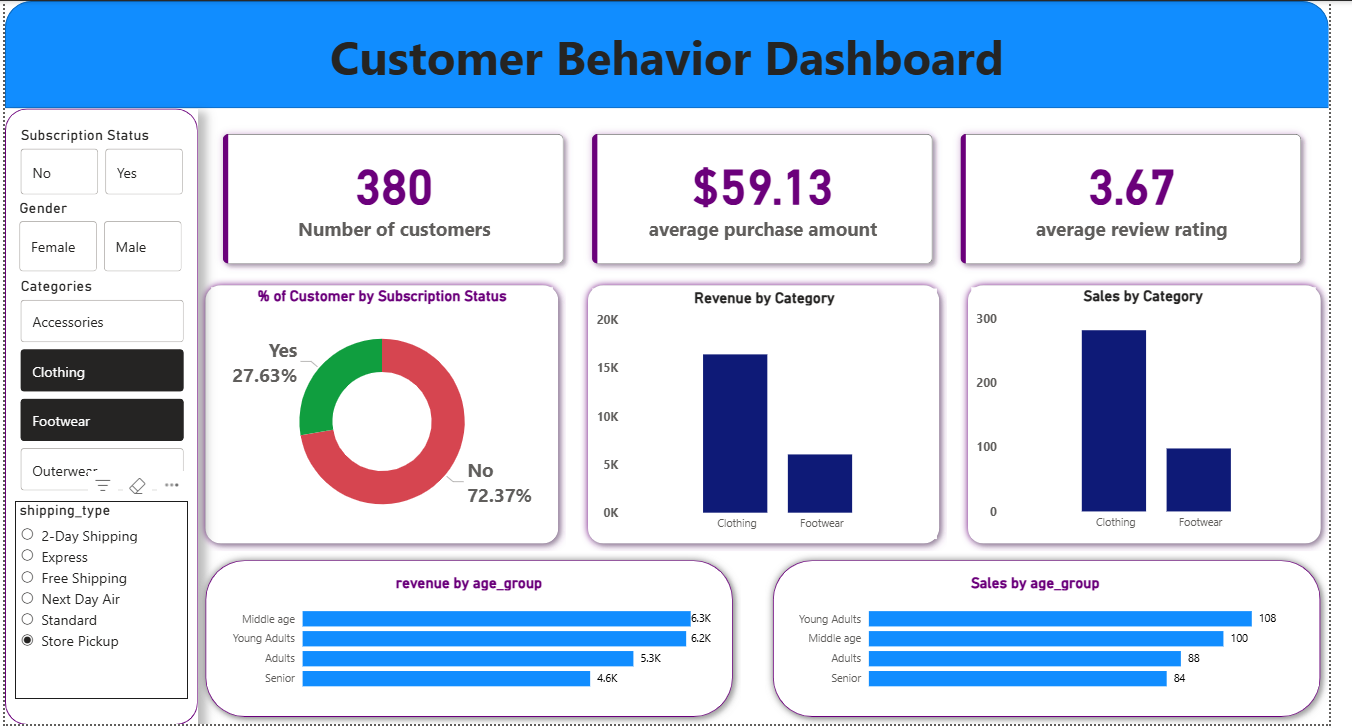

The dashboard page shown, as its layout file describes it:
{"tool":"powerbi","page":{"name":"Page 1","canvas":[1500,820],"ordinal":0},"visuals":[{"type":"cardVisual","fields":{"Data":["customer.Number of customers","customer.average purchase amount","customer.average review rating"]},"box":[218.6,121.4,1281.4,205.7],"z":0},{"type":"shape","box":[0,0,1500.4,121.5],"z":1},{"type":"textbox","box":[0,21.4,1500.4,100],"z":2},{"type":"shape","box":[217.9,312.6,418,310.8],"z":3},{"type":"donutChart","title":"% of Customer by Subscription Status","fields":{"Category":["customer.subscription_status"],"Y":["CountNonNull(customer.customer_id)"]},"box":[234,325.1,387.6,284],"z":4},{"type":"shape","box":[651.9,312.6,416.2,310.8],"z":5},{"type":"shape","box":[1082.4,312.6,418,310.8],"z":6},{"type":"clusteredColumnChart","title":"Revenue by Category","fields":{"Y":["Sum(customer.purchase_amount)"],"Category":["customer.category"]},"box":[665.7,325.7,390,284.3],"z":7},{"type":"clusteredColumnChart","title":"Sales by Category","fields":{"Category":["customer.category"],"Y":["CountNonNull(customer.customer_id)"]},"box":[1095.7,324.3,390,284.3],"z":8},{"type":"shape","box":[0,121.4,218.6,698.6],"z":9},{"type":"advancedSlicerVisual","fields":{"Values":["customer.subscription_status"]},"box":[12.9,141.4,195.7,82.9],"z":10},{"type":"advancedSlicerVisual","fields":{"Values":["customer.gender"]},"box":[11.4,224.3,195.7,88.6],"z":11},{"type":"advancedSlicerVisual","fields":{"Values":["customer.category"]},"box":[12.9,312.9,195.7,248.6],"z":12},{"type":"listSlicer","fields":{"Values":["customer.shipping_type"]},"box":[11.4,567.1,195.7,224.3],"z":13},{"type":"shape","box":[218.6,624.3,615.7,195.7],"z":14},{"type":"shape","box":[861.4,624.3,638.6,195.7],"z":15},{"type":"clusteredBarChart","title":"revenue by age_group","fields":{"Category":["customer.age_group"],"Y":["Sum(customer.purchase_amount)"]},"box":[247.1,648.6,558.6,142.9],"z":16},{"type":"clusteredBarChart","title":"Sales by age_group","fields":{"Category":["customer.age_group"],"Y":["Count(customer.customer_id)"]},"box":[888.6,648.6,558.6,142.9],"z":17}]}

Visuals, with their boxes in screenshot pixels (x1, y1, x2, y2):
cardVisual - customer.Number of customers x customer.average purchase amount: region(192, 106, 1315, 287)
shape: region(0, 0, 1315, 106)
textbox: region(0, 19, 1315, 106)
shape: region(191, 274, 557, 546)
"% of Customer by Subscription Status" donutChart: region(205, 285, 545, 534)
shape: region(571, 274, 936, 546)
shape: region(949, 274, 1315, 546)
"Revenue by Category" clusteredColumnChart: region(583, 285, 925, 535)
"Sales by Category" clusteredColumnChart: region(960, 284, 1302, 533)
shape: region(0, 106, 192, 719)
advancedSlicerVisual - customer.subscription_status: region(11, 124, 183, 197)
advancedSlicerVisual - customer.gender: region(10, 197, 182, 274)
advancedSlicerVisual - customer.category: region(11, 274, 183, 492)
listSlicer - customer.shipping_type: region(10, 497, 182, 694)
shape: region(192, 547, 731, 719)
shape: region(755, 547, 1315, 719)
"revenue by age_group" clusteredBarChart: region(217, 569, 706, 694)
"Sales by age_group" clusteredBarChart: region(779, 569, 1268, 694)
